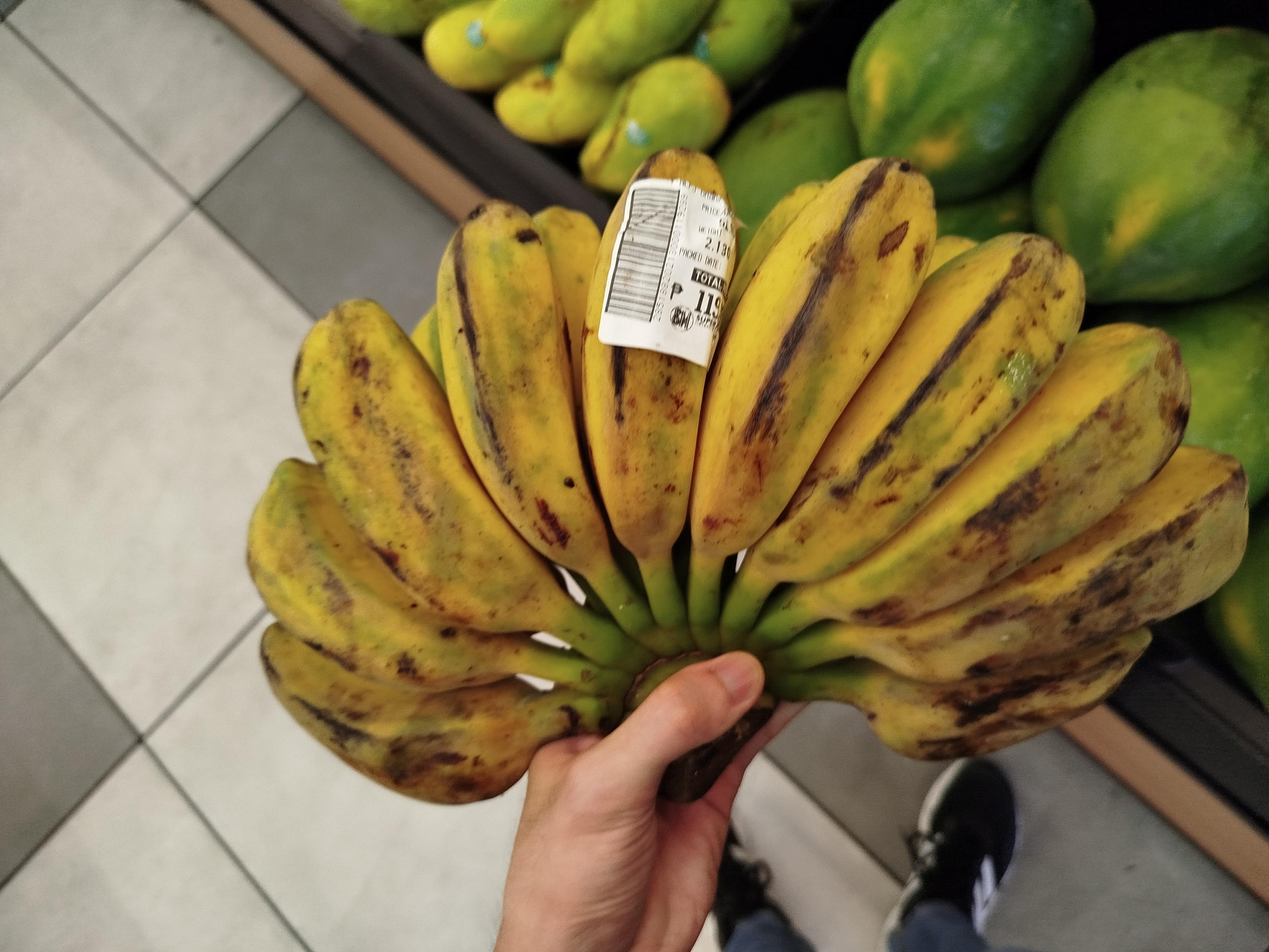underripe: (247, 149, 1248, 803)
